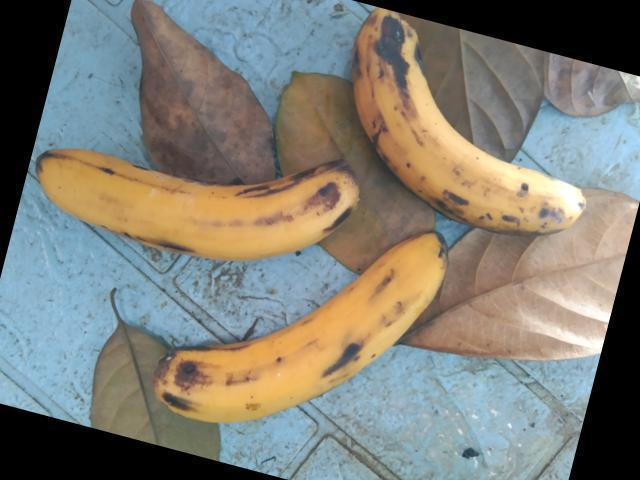overripe: (352, 9, 606, 261), (30, 128, 369, 255)
ripe: (126, 227, 452, 446)
